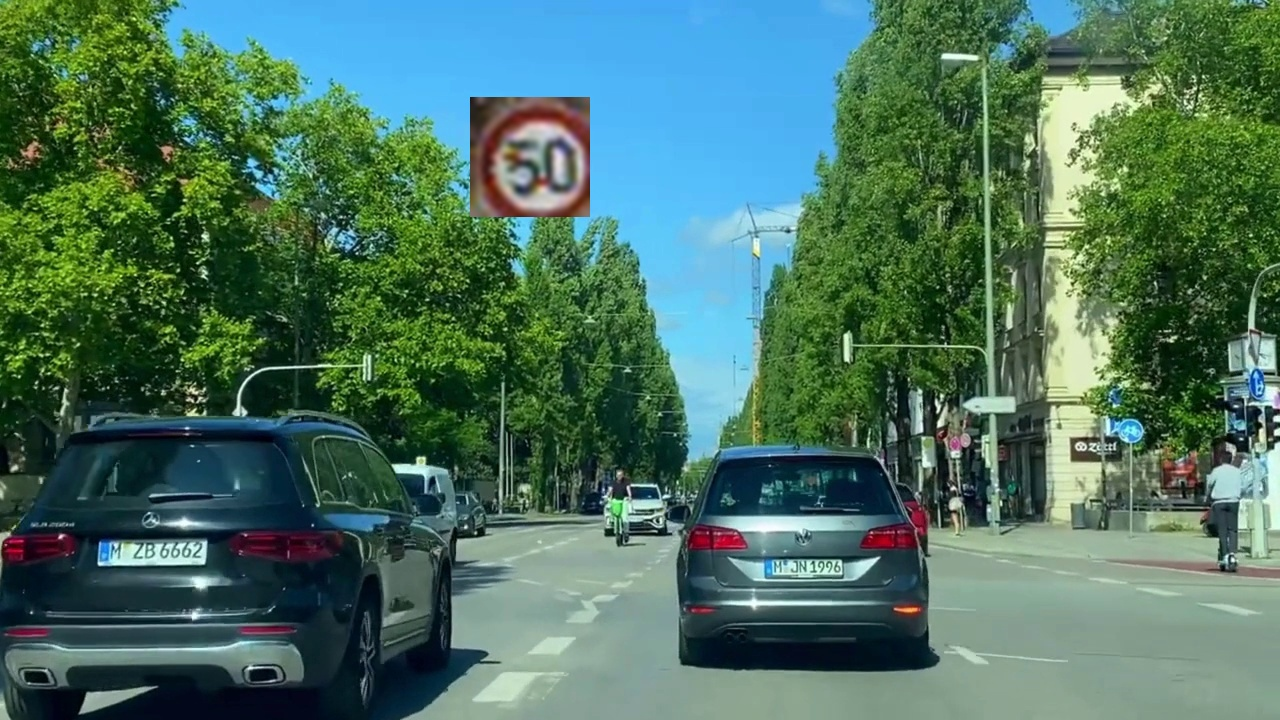Speed 50: (470, 97, 590, 217)
